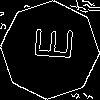E: (25, 25, 73, 62)
